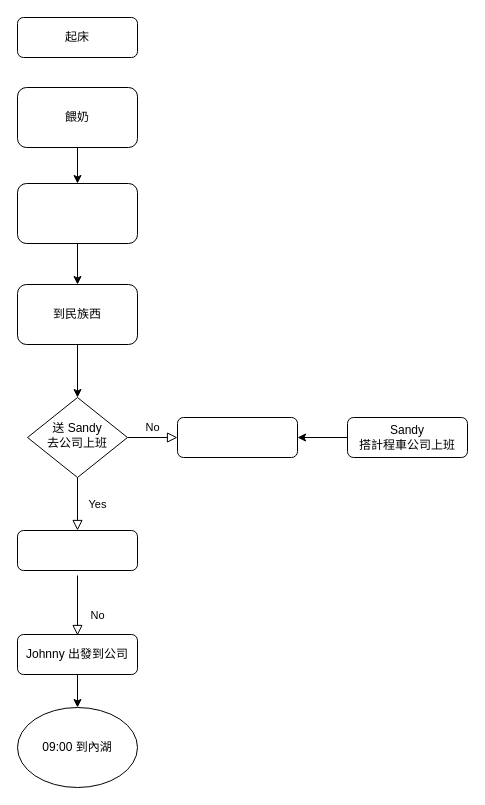
Image size: 485x805. Some labels were removed from this diagram. Here are the shapes that lost their labels. From the top down, the box of each, then its label:
(16, 182, 138, 244): 出發
(176, 416, 298, 458): 到 08:00
(16, 530, 138, 570): 08:30 站前
